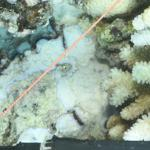alive: (2, 1, 147, 146)
